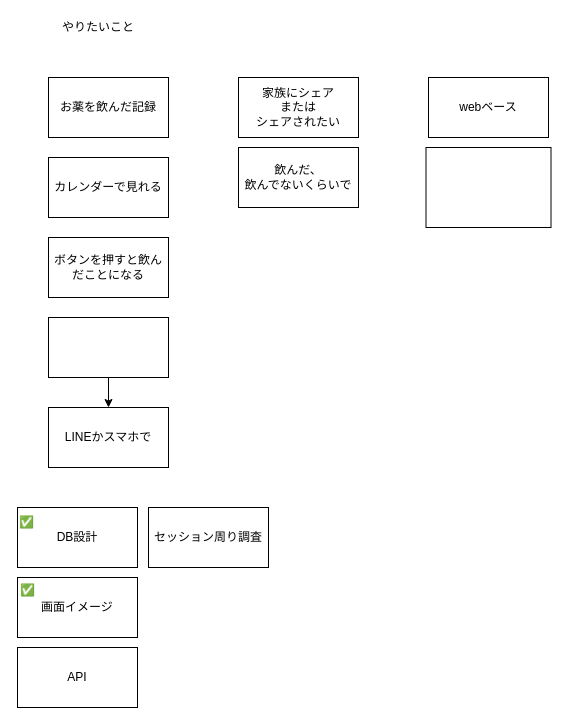
Image size: 569x725. Some labels were removed from this diagram. The box of each missing label's shape, as (x1, y1, x2, y2) in pixels:
アラートできる: (48, 316, 168, 378)
スマホもブックマークor LINE ビジネス: (425, 146, 551, 228)
